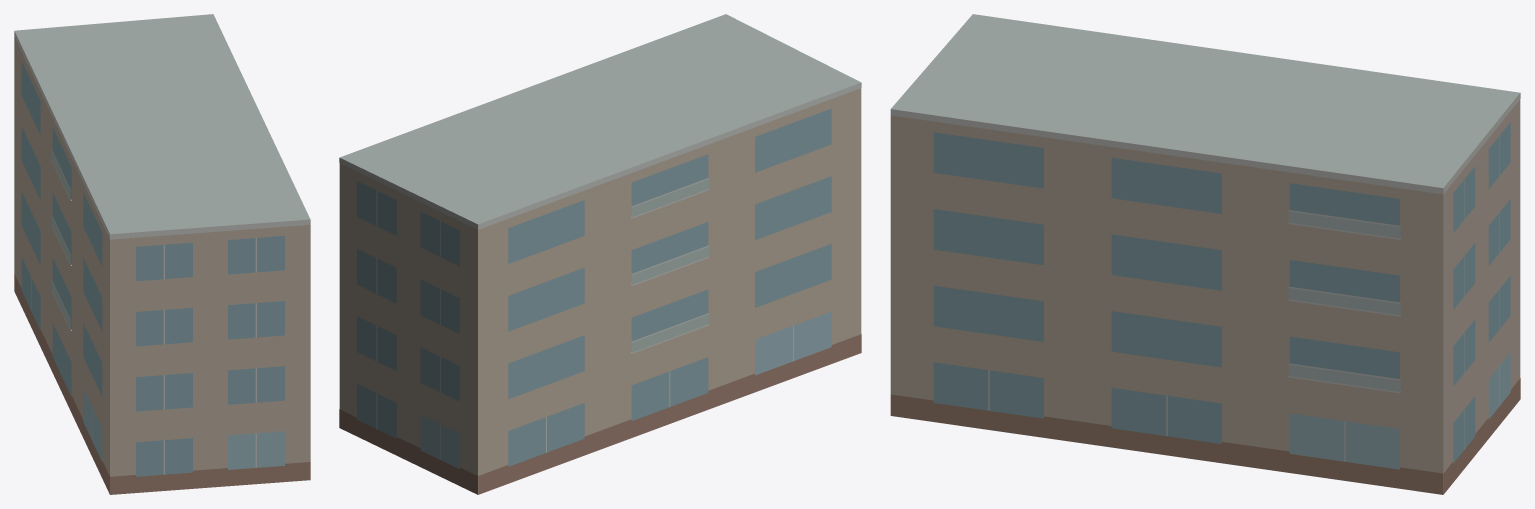
The model's file is survey-upis-32592938.glb.
3 renders of one model, left to right at view 1: azimuth 30°, elevation 25°; view 2: azimuth 150°, elevation 25°; view 3: azimuth 270°, elevation 25°, orthographic. The views are drawn at different scales.
Visible parts, largest first — view 1: survey-upis-32592938.tmp; view 2: survey-upis-32592938.tmp; view 3: survey-upis-32592938.tmp.
Part boxes in pixels (x1=…): survey-upis-32592938.tmp: x1=14, y1=14, x2=310, y2=494; survey-upis-32592938.tmp: x1=339, y1=14, x2=861, y2=494; survey-upis-32592938.tmp: x1=890, y1=14, x2=1520, y2=494.
Size of the model in its own units: 14.62 by 12 by 22.34.
